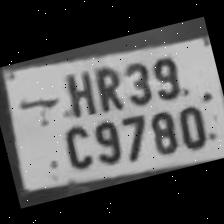0: (170, 96, 211, 152)
3: (115, 54, 155, 107)
7: (112, 106, 152, 166)
8: (142, 102, 182, 159)
9: (84, 111, 124, 168), (144, 48, 185, 102)
C: (54, 115, 96, 175)
H: (54, 64, 100, 120)
R: (87, 60, 126, 114)
